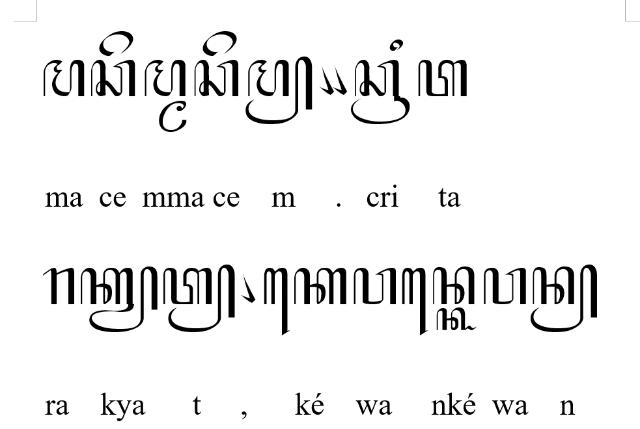-m: (245, 56, 313, 126)
-n: (530, 264, 598, 332)
-t: (164, 263, 236, 333)
_k: (436, 308, 478, 332)
_m: (158, 100, 188, 134)
c: (89, 59, 137, 97), (194, 59, 238, 97)
cr: (350, 59, 410, 125)
e: (98, 31, 134, 57), (202, 31, 236, 56)
e1: (402, 267, 428, 337), (263, 268, 289, 336)
i: (389, 38, 403, 52)
k: (294, 267, 346, 305)
kom: (332, 65, 348, 97), (319, 66, 335, 96), (242, 272, 256, 304)
ky: (80, 267, 158, 333)
m: (144, 57, 186, 97), (42, 59, 86, 97)
n: (432, 266, 476, 305)
r: (42, 267, 74, 305)
t: (418, 60, 468, 98)
w: (482, 267, 528, 307), (353, 266, 397, 305)
